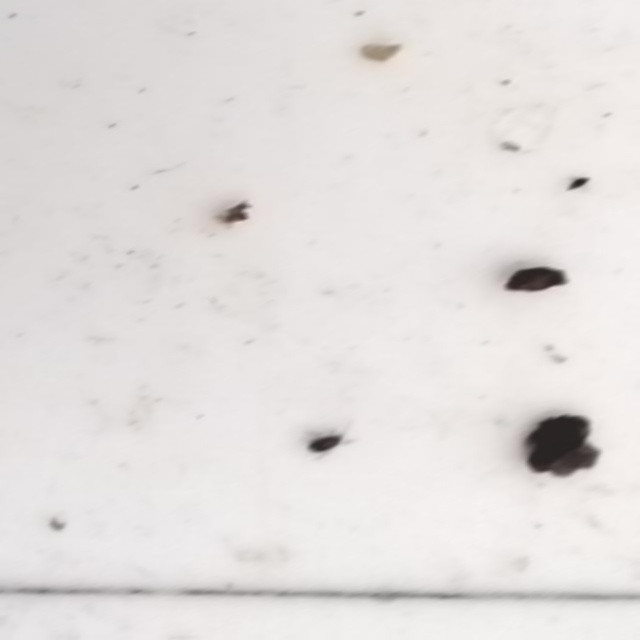varroa: (524, 416, 598, 454), (523, 449, 602, 477), (506, 270, 570, 298)
